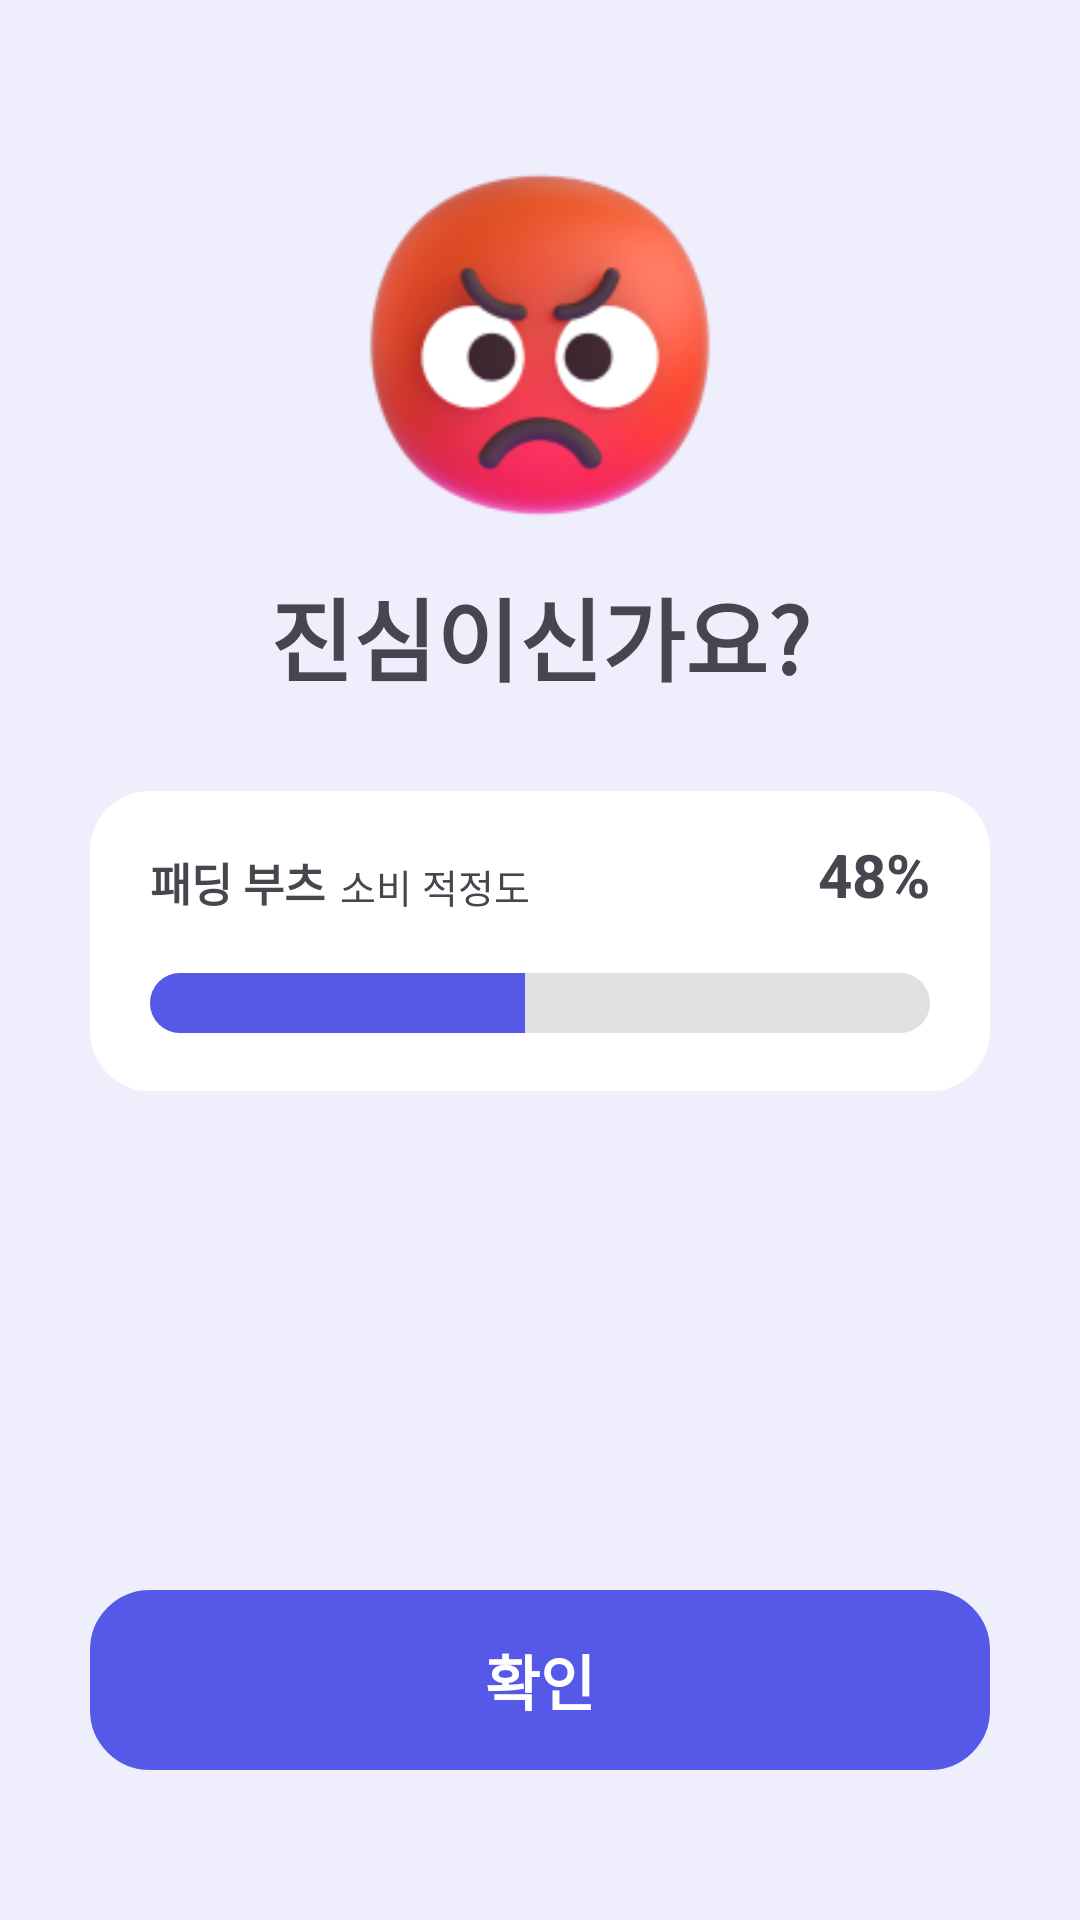

Where to tap for icons on this 1080w x 1920h app screen, as (x=x, y=y):
res angry: (x=540, y=345)
